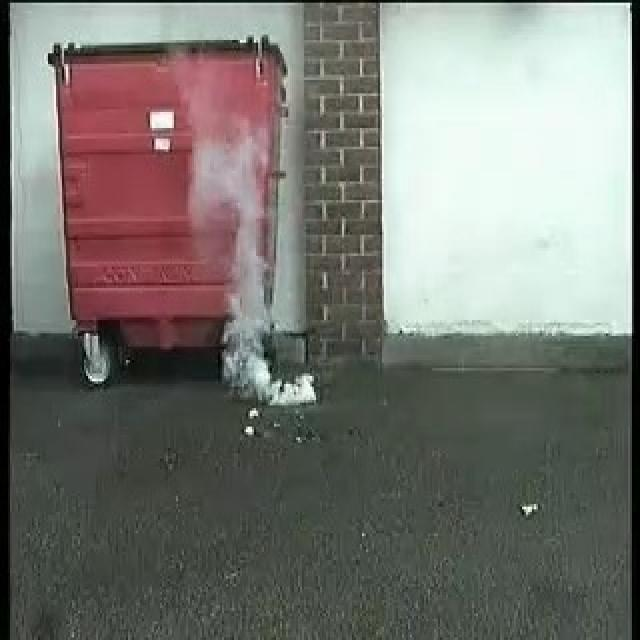smoke: (188, 130, 318, 407)
